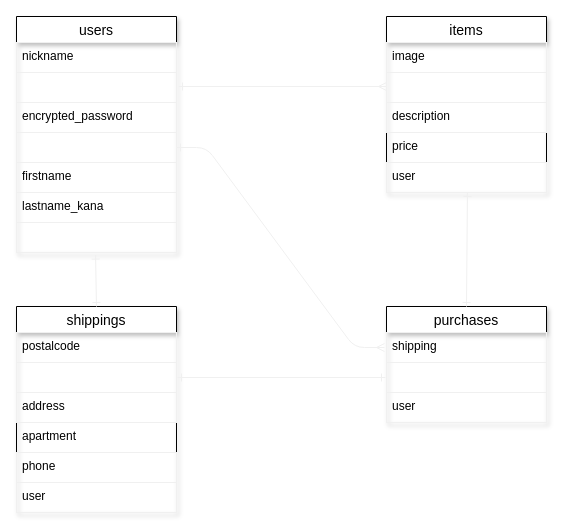
Image size: 563x529. Some labels were removed from this diagram. The centre of each missing label's shape, as x and y in pixels:
"city" goes at [96,377].
"email" goes at [96,87].
"firstname_kana" goes at [96,237].
"item" goes at [466,377].
"item_name" goes at [466,87].
"lastname" goes at [96,147].
